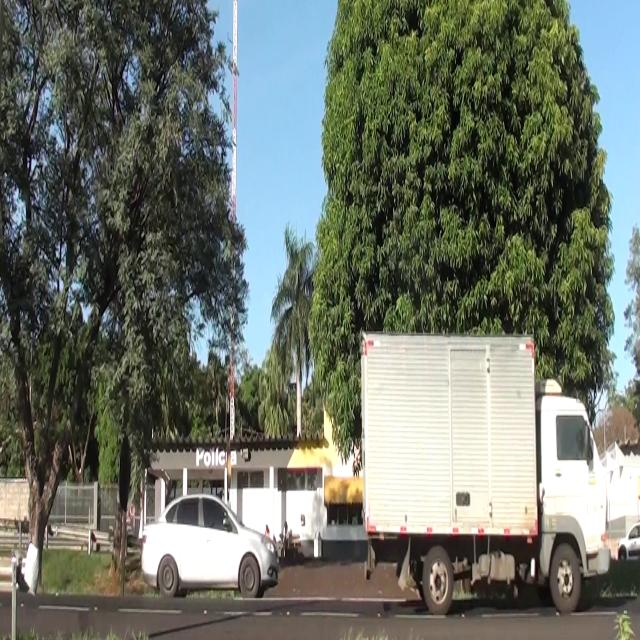-axle: (546, 544, 586, 619), (422, 545, 454, 618)
